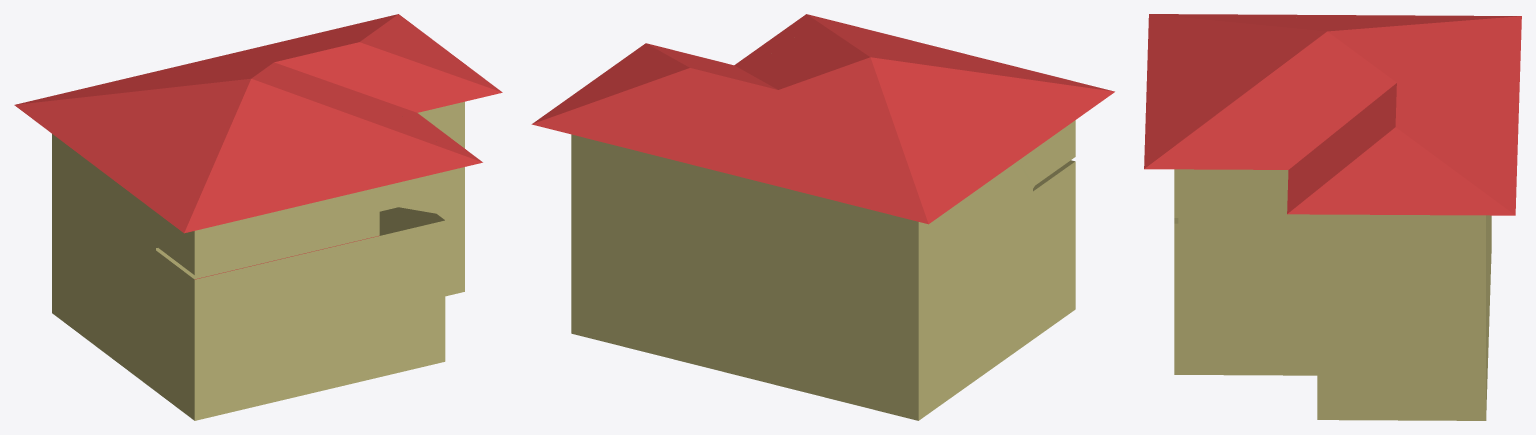
3 renders of one model, left to right at view 1: azimuth 30°, elevation 25°; view 2: azimuth 150°, elevation 25°; view 3: azimuth 270°, elevation 25°, orthographic. The views are drawn at different scales.
Size of the model in its own units: 16 by 12.67 by 10.33.
